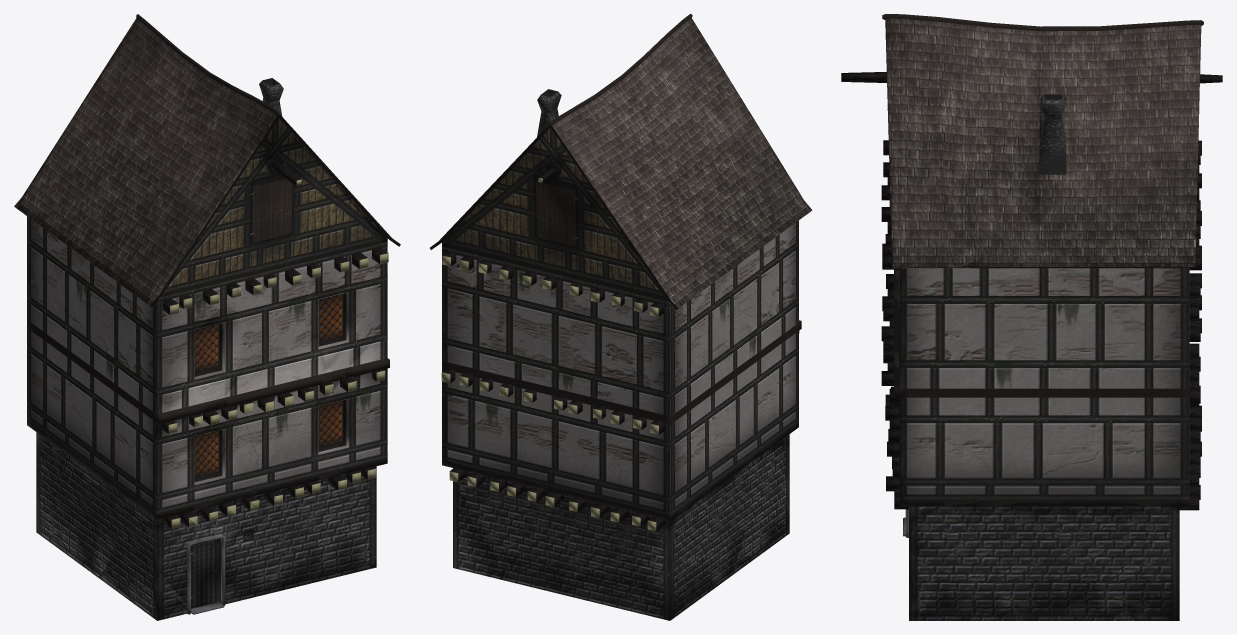
Rendered from broken_house.FBX.
The picture shows the model from 3 angles, left to right: view 1: azimuth 30°, elevation 25°; view 2: azimuth 150°, elevation 25°; view 3: azimuth 270°, elevation 25°; orthographic projection. The views are drawn at different scales.
Parts seen in each view (by area): view 1: House_Part_154, House_Part_137, House_Part_209, House_Part_141, House_Part_138, House_Part_151, House_Part_53, House_Part_50, House_Part_201, House_Part_204, House_Part_153, House_Part_197 (+43 smaller); view 2: House_Part_179, House_Part_157, House_Part_151, House_Part_154, House_Part_167, House_Part_153, House_Part_5, House_Part_156, House_Part_4, House_Part_184, House_Part_88, House_Part_159 (+52 smaller); view 3: House_Part_135, House_Part_137, House_Part_181, House_Part_136, House_Part_138, House_Part_183, House_Part_146, House_Part_150, House_Part_147, House_Part_128, House_Part_23, House_Part_140 (+38 smaller).
Boxes of the visible parts, x1,y1,x2,y2 form: House_Part_154: (72,225,219,334); House_Part_137: (217,85,334,196); House_Part_209: (156,285,249,425); House_Part_141: (187,146,290,291); House_Part_138: (309,180,400,304); House_Part_151: (14,178,89,306); House_Part_53: (154,541,276,614); House_Part_50: (249,447,338,543); House_Part_201: (216,337,333,420); House_Part_204: (126,275,238,387); House_Part_153: (126,128,195,227); House_Part_197: (128,450,199,564); House_Part_179: (555,342,699,467); House_Part_157: (521,106,631,245); House_Part_151: (626,234,735,378); House_Part_154: (723,138,812,291); House_Part_167: (596,452,682,543); House_Part_153: (661,123,756,204); House_Part_5: (606,554,719,620); House_Part_156: (586,232,687,324); House_Part_4: (601,501,720,570); House_Part_184: (444,255,518,345); House_Part_88: (563,235,640,351); House_Part_159: (688,290,767,379); House_Part_135: (964,356,1115,481); House_Part_137: (841,14,993,133); House_Part_181: (1070,192,1201,302); House_Part_136: (1059,23,1173,185); House_Part_138: (882,141,971,291); House_Part_183: (1089,287,1189,400); House_Part_146: (994,23,1125,111); House_Part_150: (938,148,1028,261); House_Part_147: (962,64,1062,162); House_Part_128: (899,267,998,337); House_Part_23: (1105,517,1179,620); House_Part_140: (1005,137,1087,231).
Size of the model in its own units: 8.02 by 14.94 by 9.42.
